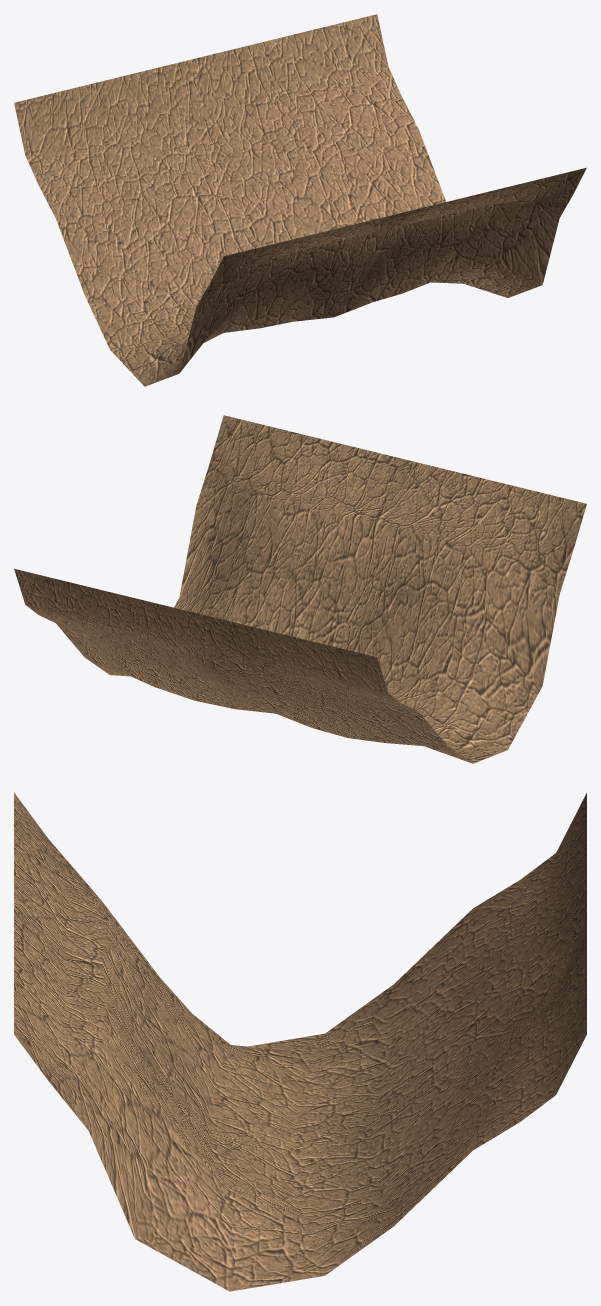
Rendered from des_trench_we.obj.
3 views of the same model, one above another, from view 1: azimuth 30°, elevation 25°; view 2: azimuth 150°, elevation 25°; view 3: azimuth 270°, elevation 25° (orthographic). The views are drawn at different scales.
Visible parts, largest first — view 1: polySurface4 polySurface2 trench2; view 2: polySurface4 polySurface2 trench2; view 3: polySurface4 polySurface2 trench2.
Part boxes in pixels (x1,y1,x2,y2): polySurface4 polySurface2 trench2: [14, 14, 586, 386]; polySurface4 polySurface2 trench2: [14, 415, 586, 763]; polySurface4 polySurface2 trench2: [14, 793, 586, 1291].
Size of the model in its own units: 1 by 0.4954 by 1.
